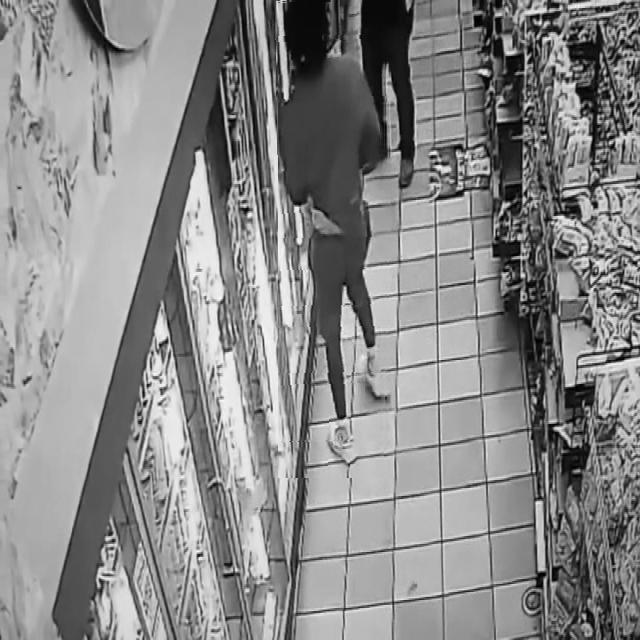Normal: (278, 0, 391, 478)
